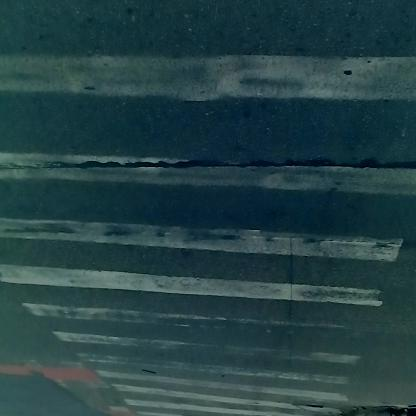crosswalk: (11, 4, 413, 410)
